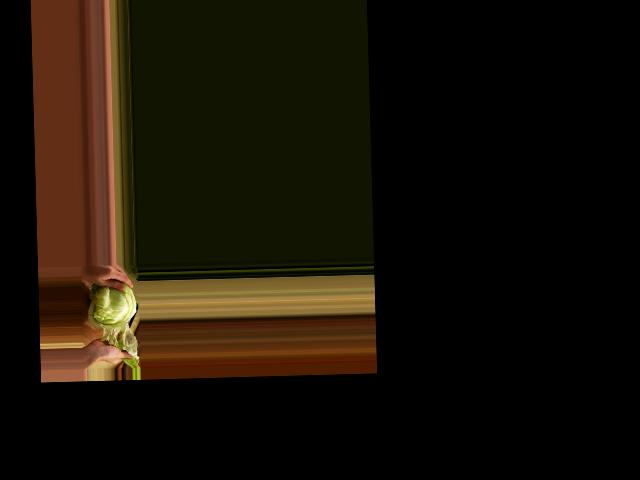lettuce: (84, 278, 139, 340)
